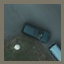car: (20, 22, 52, 43)
